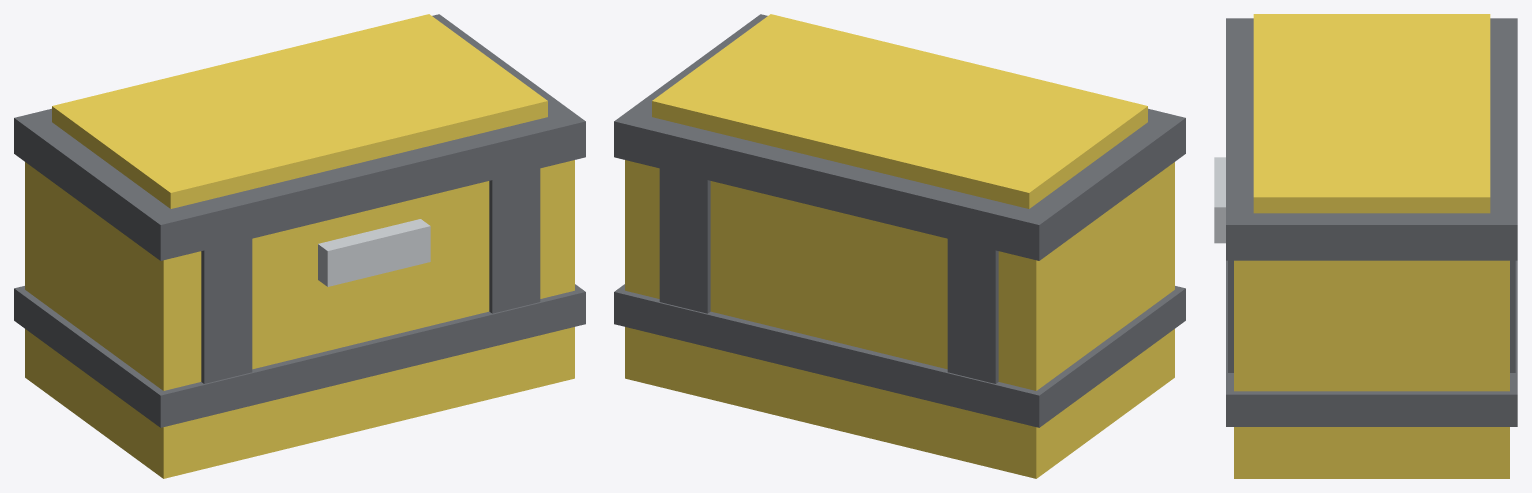
Rendered from wind-and-solar-energy-farm-tool-crate-e5edd705__34082.glb.
3 views of the same model, side by side, from view 1: azimuth 30°, elevation 25°; view 2: azimuth 150°, elevation 25°; view 3: azimuth 270°, elevation 25° (orthographic).
Parts seen in each view (by area): view 1: tool-crate, lid/yellow, lid/charcoal; view 2: tool-crate, lid/yellow, lid/charcoal; view 3: tool-crate, lid/yellow, lid/charcoal.
Boxes of the visible parts, x1,y1,x2,y2 form: tool-crate: (14,160,585,478); lid/yellow: (52,14,547,208); lid/charcoal: (14,14,585,260); tool-crate: (614,160,1185,478); lid/yellow: (652,14,1147,208); lid/charcoal: (614,14,1185,260); tool-crate: (1214,157,1517,478); lid/yellow: (1253,14,1490,213); lid/charcoal: (1226,18,1517,260).
Size of the model in its own units: 1.24 by 0.765 by 0.77.
